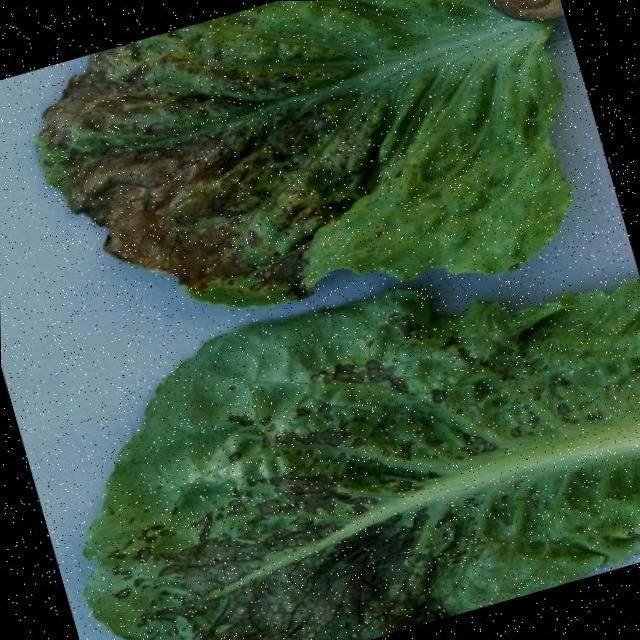Bacterial: (133, 299, 640, 640), (121, 0, 462, 279)
